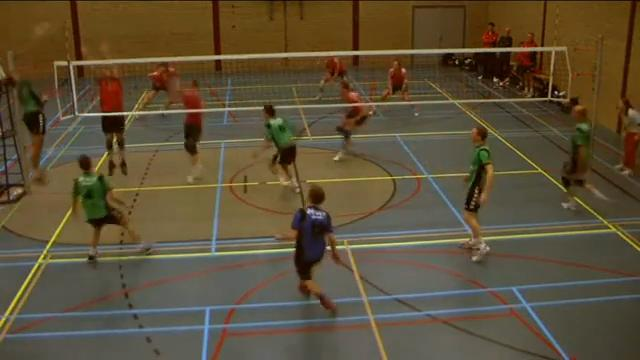muro: (2, 44, 61, 182), (79, 41, 132, 181)
